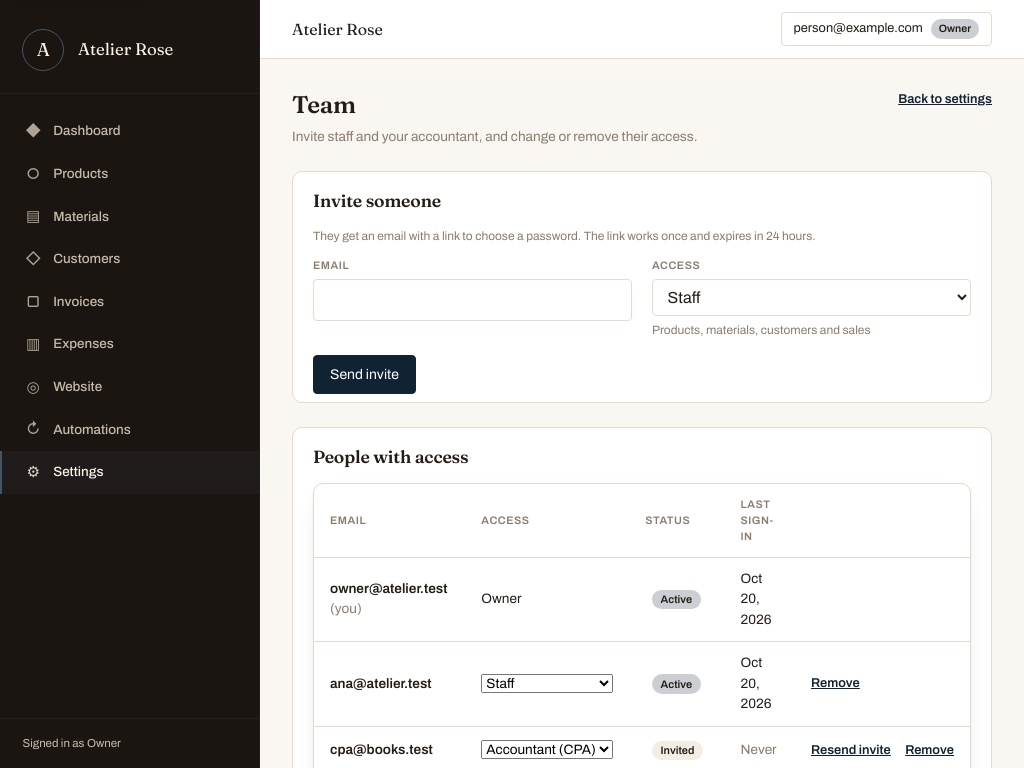
Scenario: invite › sends the email and access, then lists the invite
Expected: the text "ana@atelier.test" is shown, top-left (330, 676), bottom-right (432, 691)
Step 1. Type " New@Atelier.test " into the field labelled "Email" → (472, 300), box top-left (313, 279), bottom-right (632, 321)
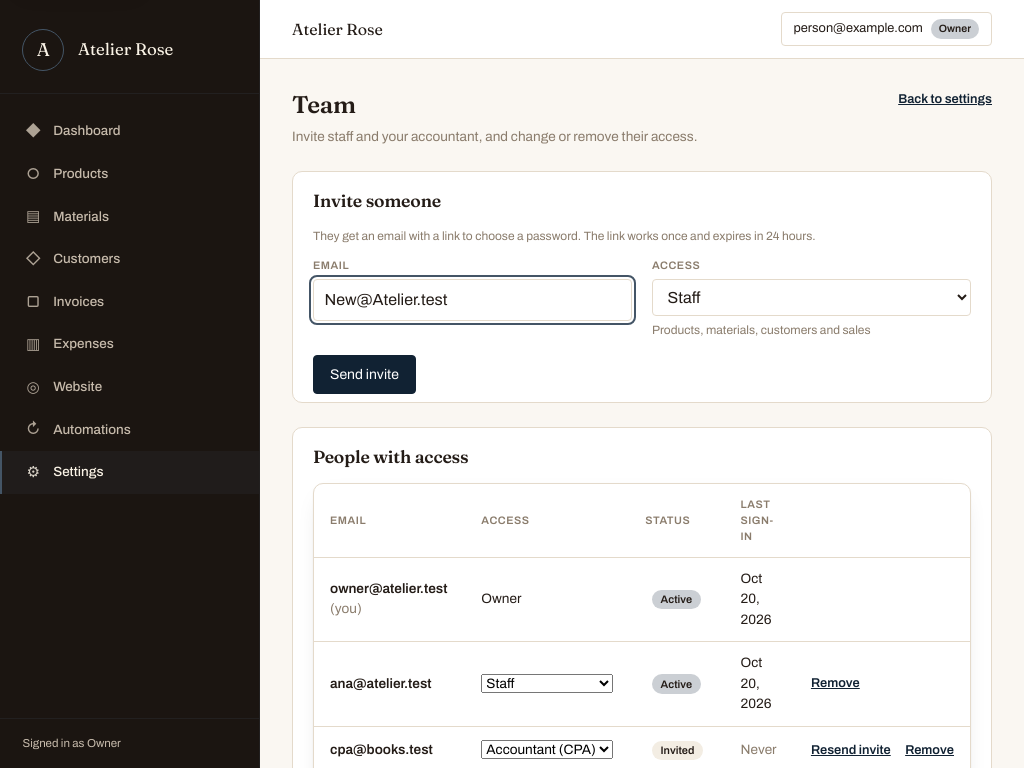
Step 2. Select "Accountant (CPA)" in the dropdown labelled "Access" → (812, 297), box top-left (652, 279), bottom-right (971, 316)
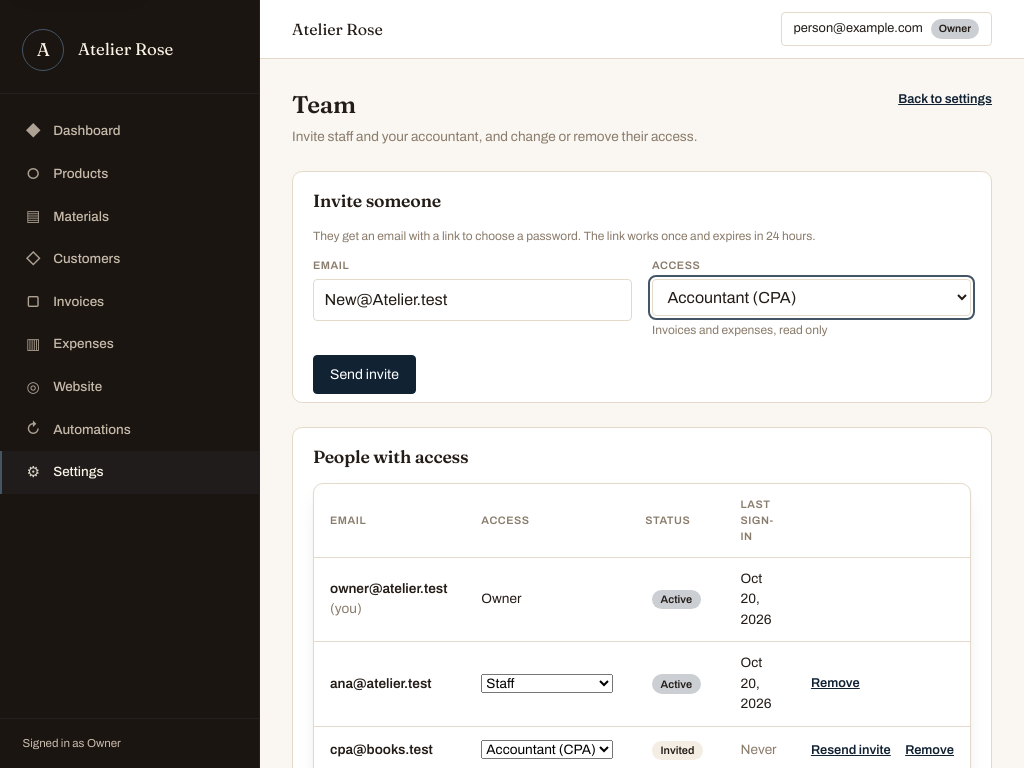
Result: the text "Invoices and expenses, read only" is shown at top-left (652, 323), bottom-right (828, 337)
Step 3. Click the button "Send invite" → (364, 375), box top-left (313, 355), bottom-right (416, 394)
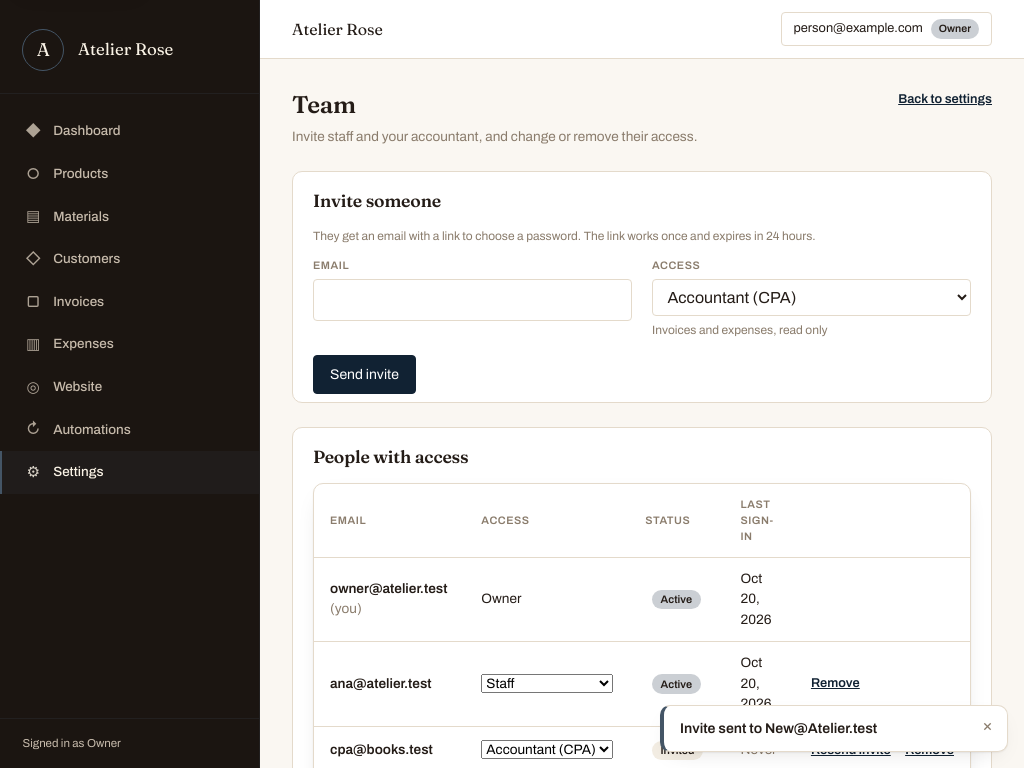
Result: the text "Invite sent to New@Atelier.test" is shown at top-left (680, 721), bottom-right (877, 736)
Result: the field labelled "Email" is empty at top-left (313, 279), bottom-right (632, 321)
